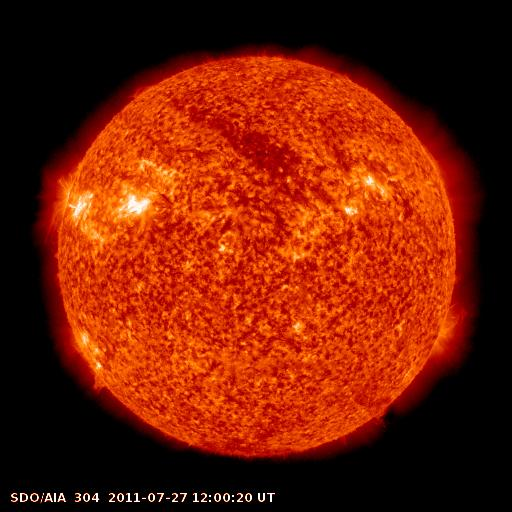prominence: (82, 361, 121, 402)
